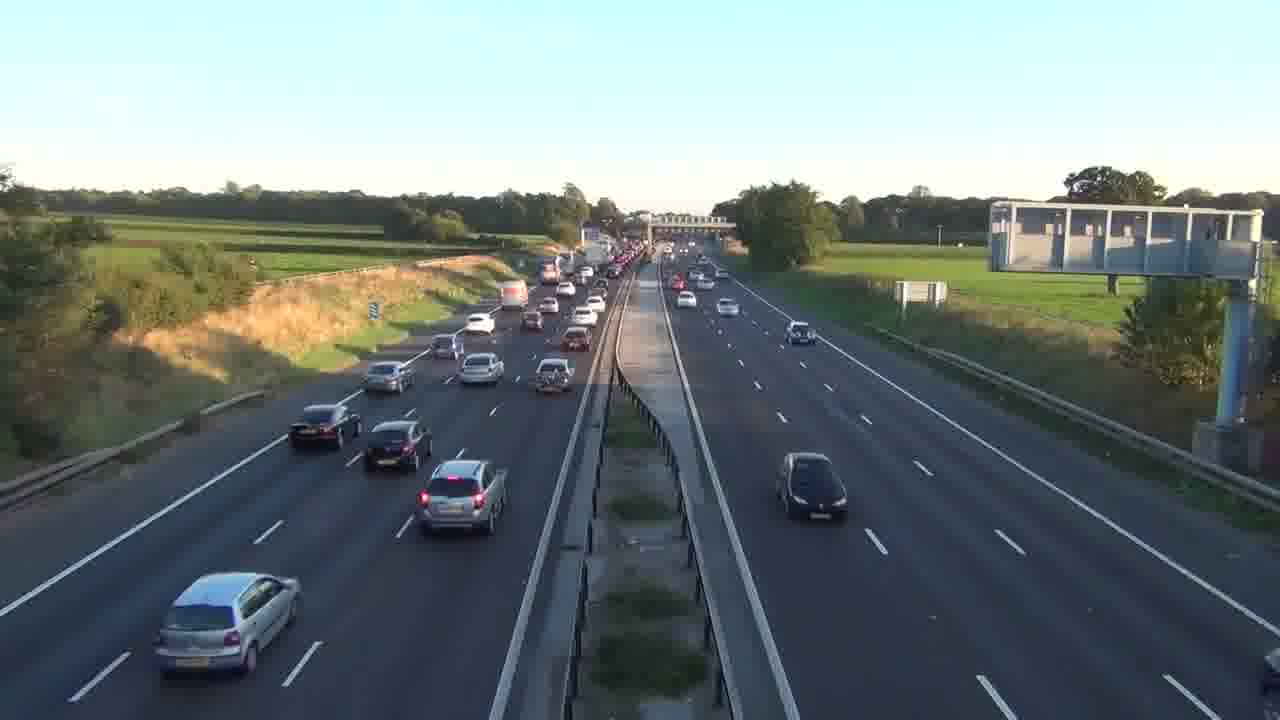car: (152, 570, 302, 677), (414, 456, 510, 536), (776, 450, 849, 521), (288, 403, 362, 451), (365, 419, 432, 471), (458, 352, 504, 386), (1259, 647, 1280, 719), (364, 362, 405, 395), (573, 306, 598, 327), (717, 296, 740, 316)
